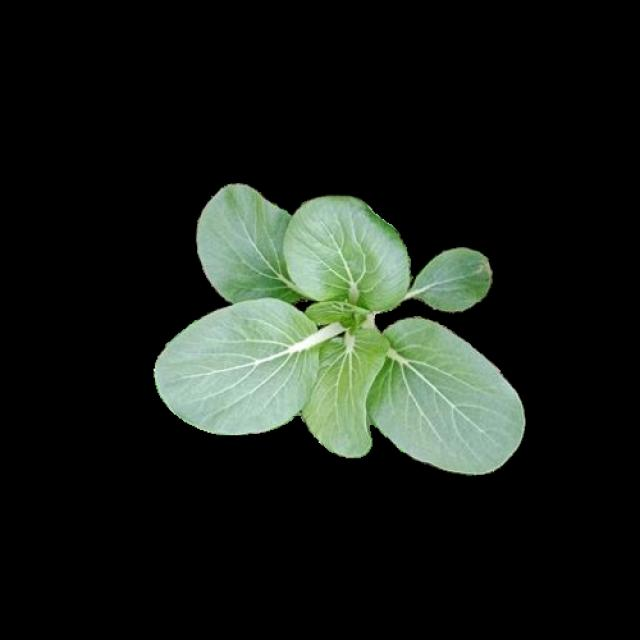healthy: (152, 180, 521, 470)
not-mature: (155, 183, 523, 472)
